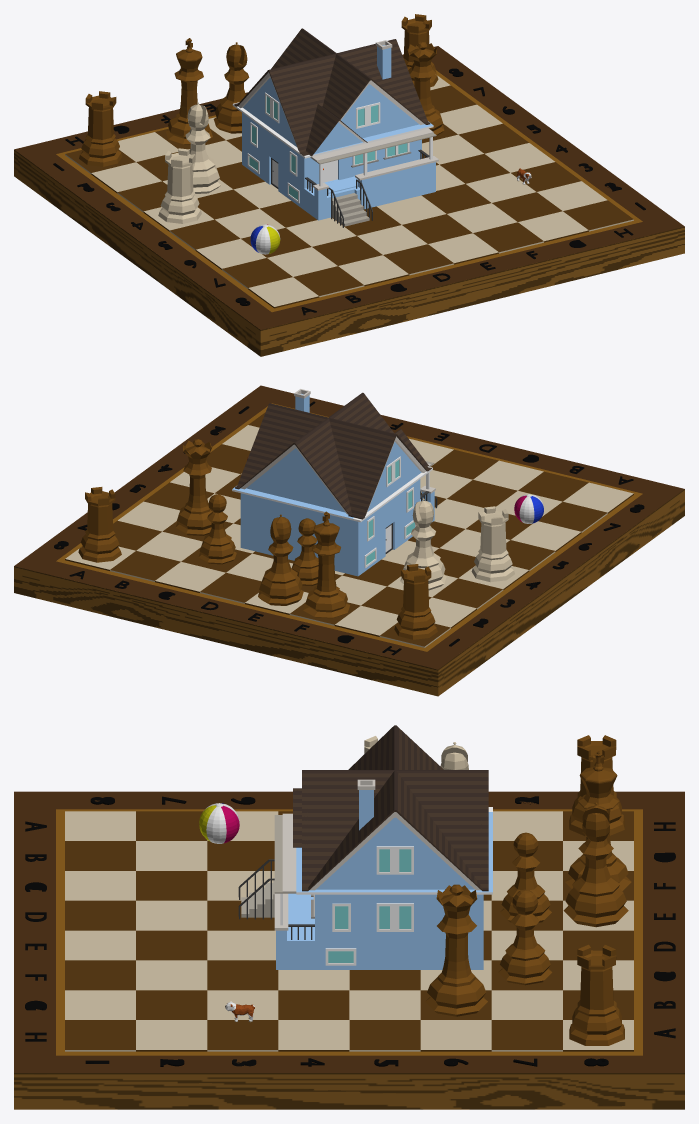
3 renders of one model, top to bottom at view 1: azimuth 30°, elevation 25°; view 2: azimuth 150°, elevation 25°; view 3: azimuth 270°, elevation 25°, orthographic. The views are drawn at different scales.
Visible parts, largest first — view 1: Cube.002, Cube.1594, OBJRANDOM_BEACHBALL; view 2: Cube.002, Cube.1594, OBJRANDOM_BEACHBALL; view 3: Cube.002, Cube.1594, OBJRANDOM_BEACHBALL.
Part boxes in pixels (<box>): Cube.002: <box>14,14,684,356</box>; Cube.1594: <box>232,28,438,227</box>; OBJRANDOM_BEACHBALL: <box>250,224,280,254</box>; Cube.002: <box>14,385,684,696</box>; Cube.1594: <box>232,389,437,576</box>; OBJRANDOM_BEACHBALL: <box>514,494,543,523</box>; Cube.002: <box>14,735,684,1109</box>; Cube.1594: <box>238,725,492,969</box>; OBJRANDOM_BEACHBALL: <box>199,803,239,843</box>.
Size of the model in its own units: 3981 by 1488 by 4012.
Materials: 30 (2 with a texture image).
